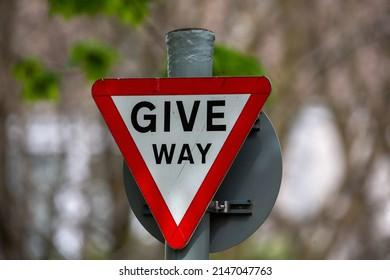Give Way: (84, 63, 278, 234)
